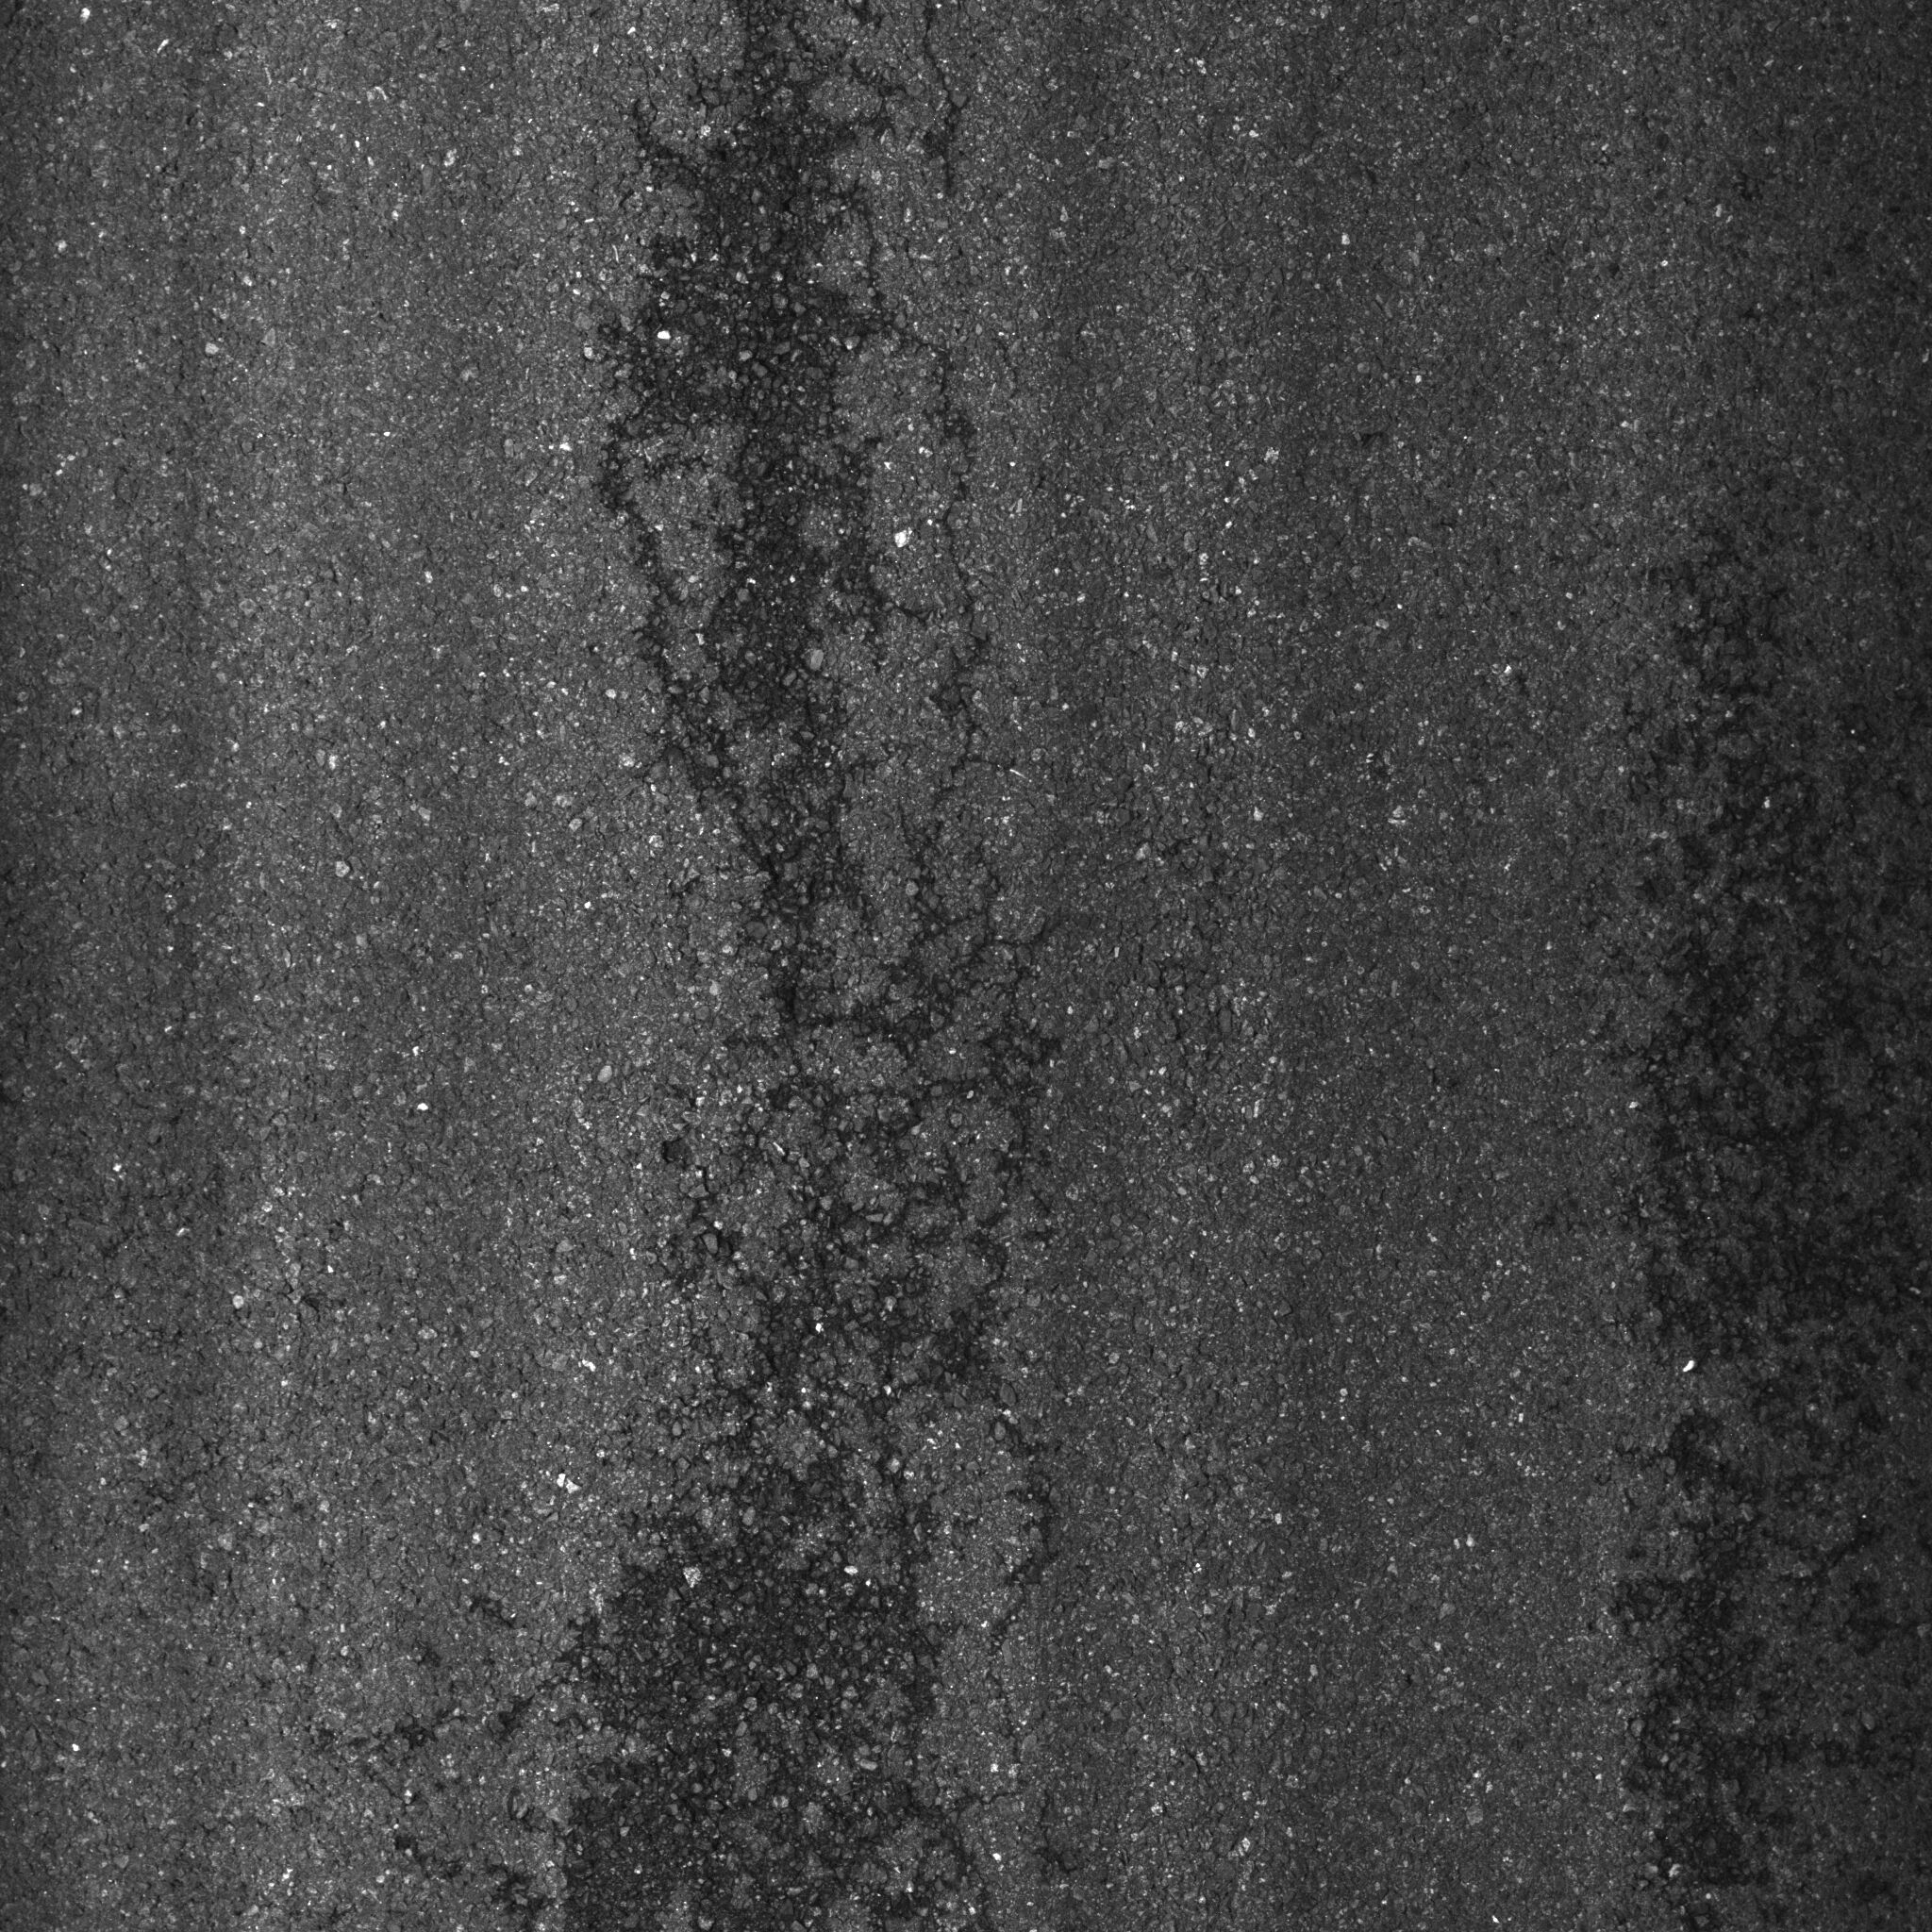alligator: (467, 2, 1111, 1932), (1580, 527, 1923, 1932)
